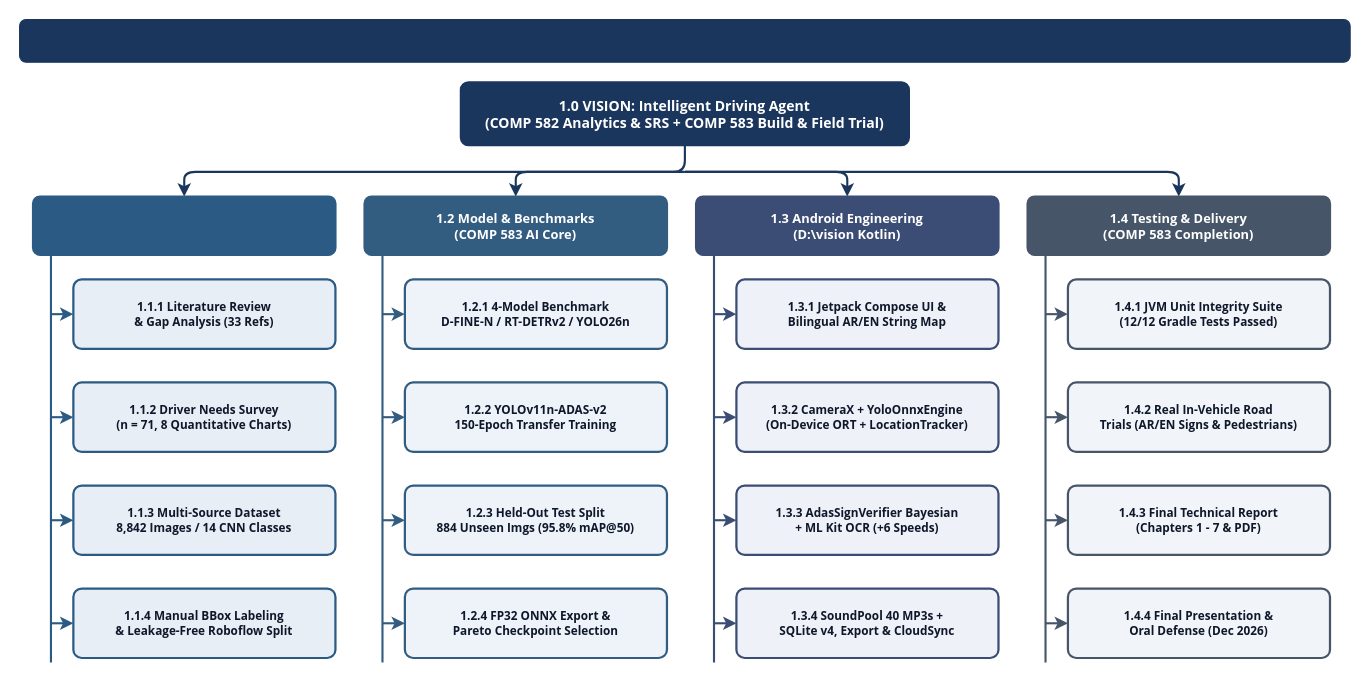
The diagram is 1370 pixels wide and 684 high, and some of its shapes have lost their labels. The centre of each missing label's shape, as x and y in pixels:
"1.1 Domain, SRS & Data (Phase I + Curation)" belongs at [183,225].
"VISION Work Breakdown Structure (COMP 582 / COMP 583)" belongs at [684,40].
